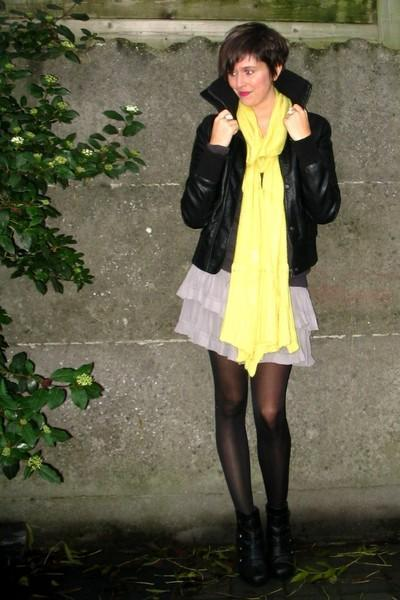jacket: (180, 68, 340, 287)
shoe: (232, 498, 292, 580)
skirt: (175, 265, 318, 366)
